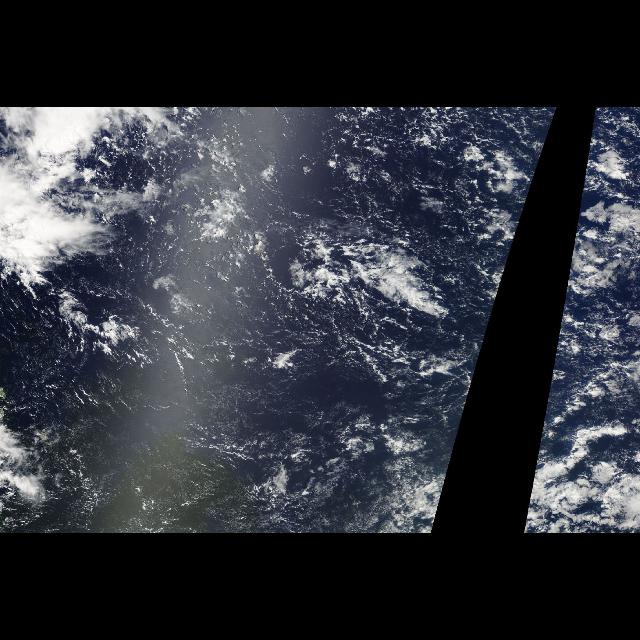Gravel: (183, 129, 461, 515)
Sugar: (58, 366, 256, 528)
